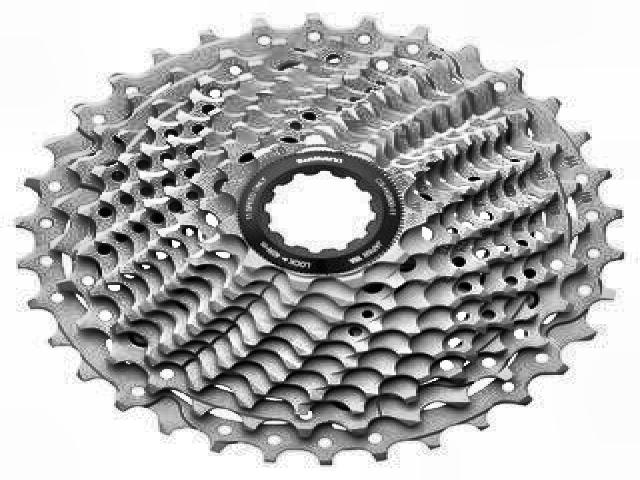cassette: (14, 14, 623, 466)
